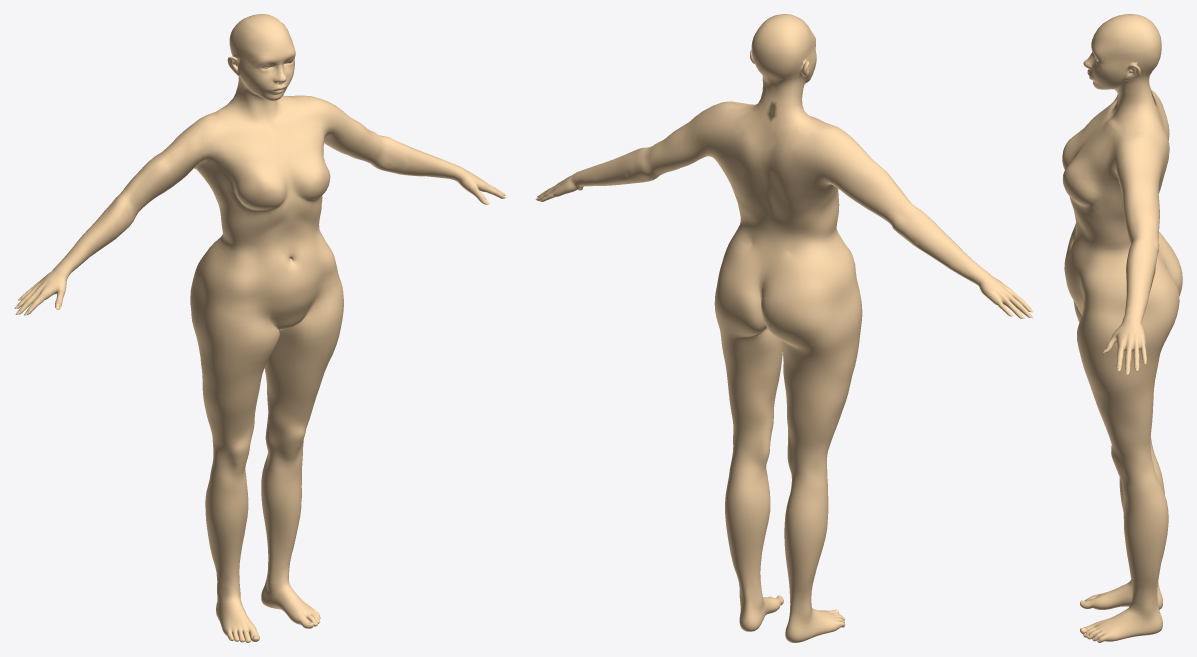
File: female_M_1.glb
3 renders of one model, left to right at view 1: azimuth 30°, elevation 25°; view 2: azimuth 150°, elevation 25°; view 3: azimuth 270°, elevation 25°, orthographic.
Parts seen in each view (by area): view 1: Body; view 2: Body; view 3: Body.
Part boxes in pixels (x1,y1,x2,y2): Body: [17, 14, 505, 642]; Body: [537, 14, 1030, 642]; Body: [1062, 14, 1182, 642].
Bounding box in the file's own units: 1.58 × 1.85 × 0.3332.
